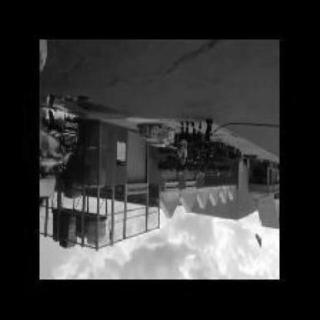Fire: (42, 101, 78, 183)
